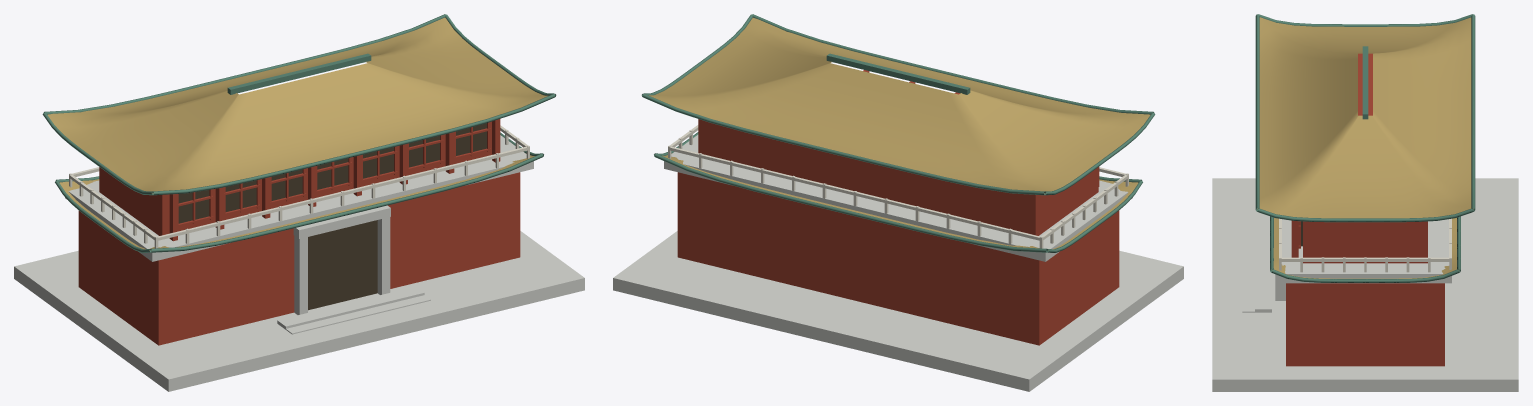
Rendered from beiping.glb.
The picture shows the model from 3 angles, left to right: view 1: azimuth 30°, elevation 25°; view 2: azimuth 150°, elevation 25°; view 3: azimuth 270°, elevation 25°; orthographic projection.
Parts seen in each view (by area): view 1: traditional gate roof, red plaster gate wall, limestone foundation, gallery balcony stone, dark gate recess, upper timber hall, green glazed edge, green glazed edge.004, railing, stone approach steps, green glazed edge.002, lower green eaves (+16 smaller); view 2: traditional gate roof, red plaster gate wall, limestone foundation, upper timber hall, gallery balcony stone, green glazed edge.002, green glazed edge.006, railing.001, green glazed edge, lower green eaves, roof ridge, green glazed edge.003 (+3 smaller); view 3: traditional gate roof, limestone foundation, red plaster gate wall, upper timber hall, gallery balcony stone, stone approach steps, green glazed edge.001, green glazed edge, green glazed edge.002, stone approach steps.001, green glazed edge.005, lower green eaves (+4 smaller).
Part boxes in pixels (x1,y1,x2,y2): traditional gate roof: [47, 17, 548, 193]; red plaster gate wall: [78, 172, 520, 345]; limestone foundation: [14, 231, 584, 391]; gallery balcony stone: [65, 135, 533, 261]; dark gate recess: [308, 220, 377, 310]; upper timber hall: [99, 121, 491, 235]; green glazed edge: [152, 93, 555, 195]; green glazed edge.004: [150, 153, 543, 252]; railing: [157, 146, 528, 240]; stone approach steps: [277, 286, 424, 329]; green glazed edge.002: [44, 14, 445, 114]; lower green eaves: [59, 155, 534, 250]; traditional gate roof: [649, 17, 1150, 193]; red plaster gate wall: [677, 172, 1119, 345]; limestone foundation: [613, 231, 1183, 391]; upper timber hall: [698, 119, 1098, 235]; gallery balcony stone: [664, 135, 1132, 261]; green glazed edge.002: [642, 93, 1045, 195]; green glazed edge.006: [654, 153, 1047, 252]; railing.001: [669, 146, 1040, 240]; green glazed edge: [752, 14, 1153, 114]; lower green eaves: [662, 153, 1138, 250]; roof ridge: [826, 53, 970, 94]; green glazed edge.003: [1044, 112, 1155, 195]; traditional gate roof: [1257, 17, 1473, 218]; limestone foundation: [1212, 178, 1518, 391]; red plaster gate wall: [1286, 283, 1444, 366]; upper timber hall: [1303, 53, 1427, 263]; gallery balcony stone: [1279, 219, 1451, 283]; stone approach steps: [1255, 242, 1271, 312]; green glazed edge.001: [1257, 208, 1473, 222]; green glazed edge: [1255, 14, 1259, 211]; green glazed edge.002: [1471, 14, 1475, 211]; stone approach steps.001: [1242, 244, 1257, 312]; green glazed edge.005: [1271, 269, 1459, 282]; lower green eaves: [1272, 218, 1458, 278].
Size of the model in its own units: 8.4 by 4.1 by 5.4.
